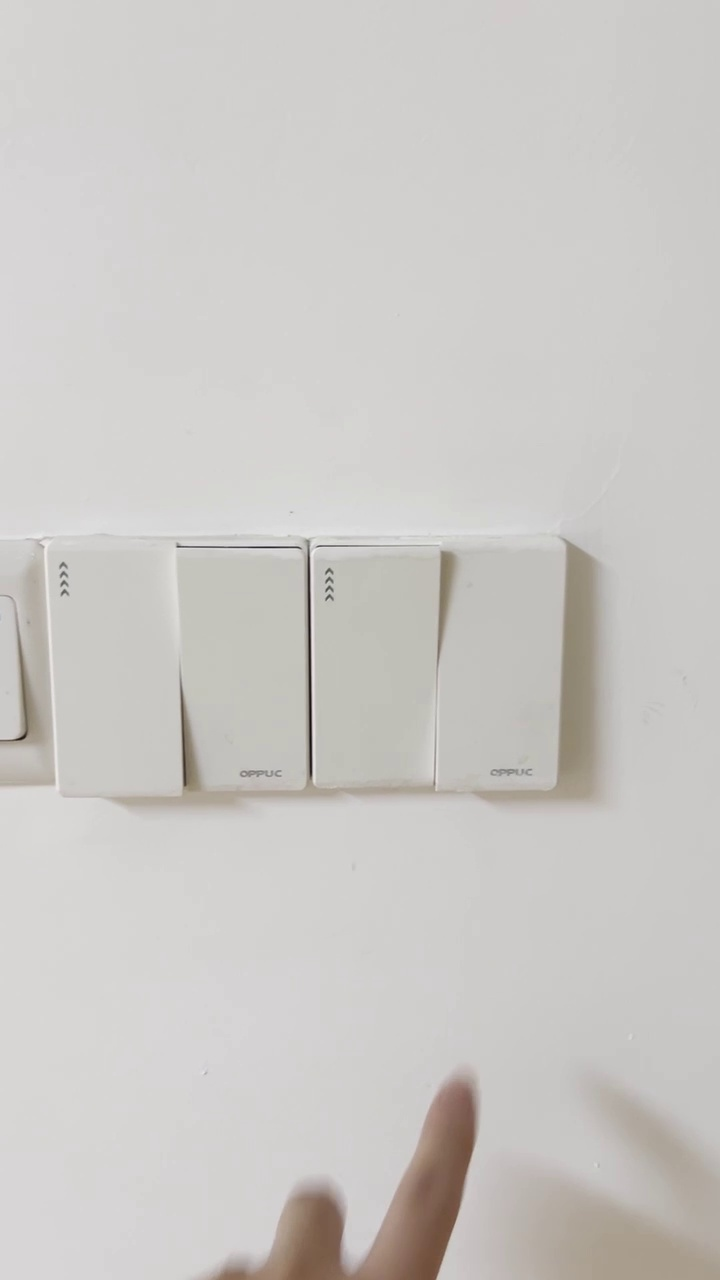button1: (48, 541, 181, 795), (182, 553, 309, 787), (440, 544, 561, 787), (317, 550, 433, 786)
